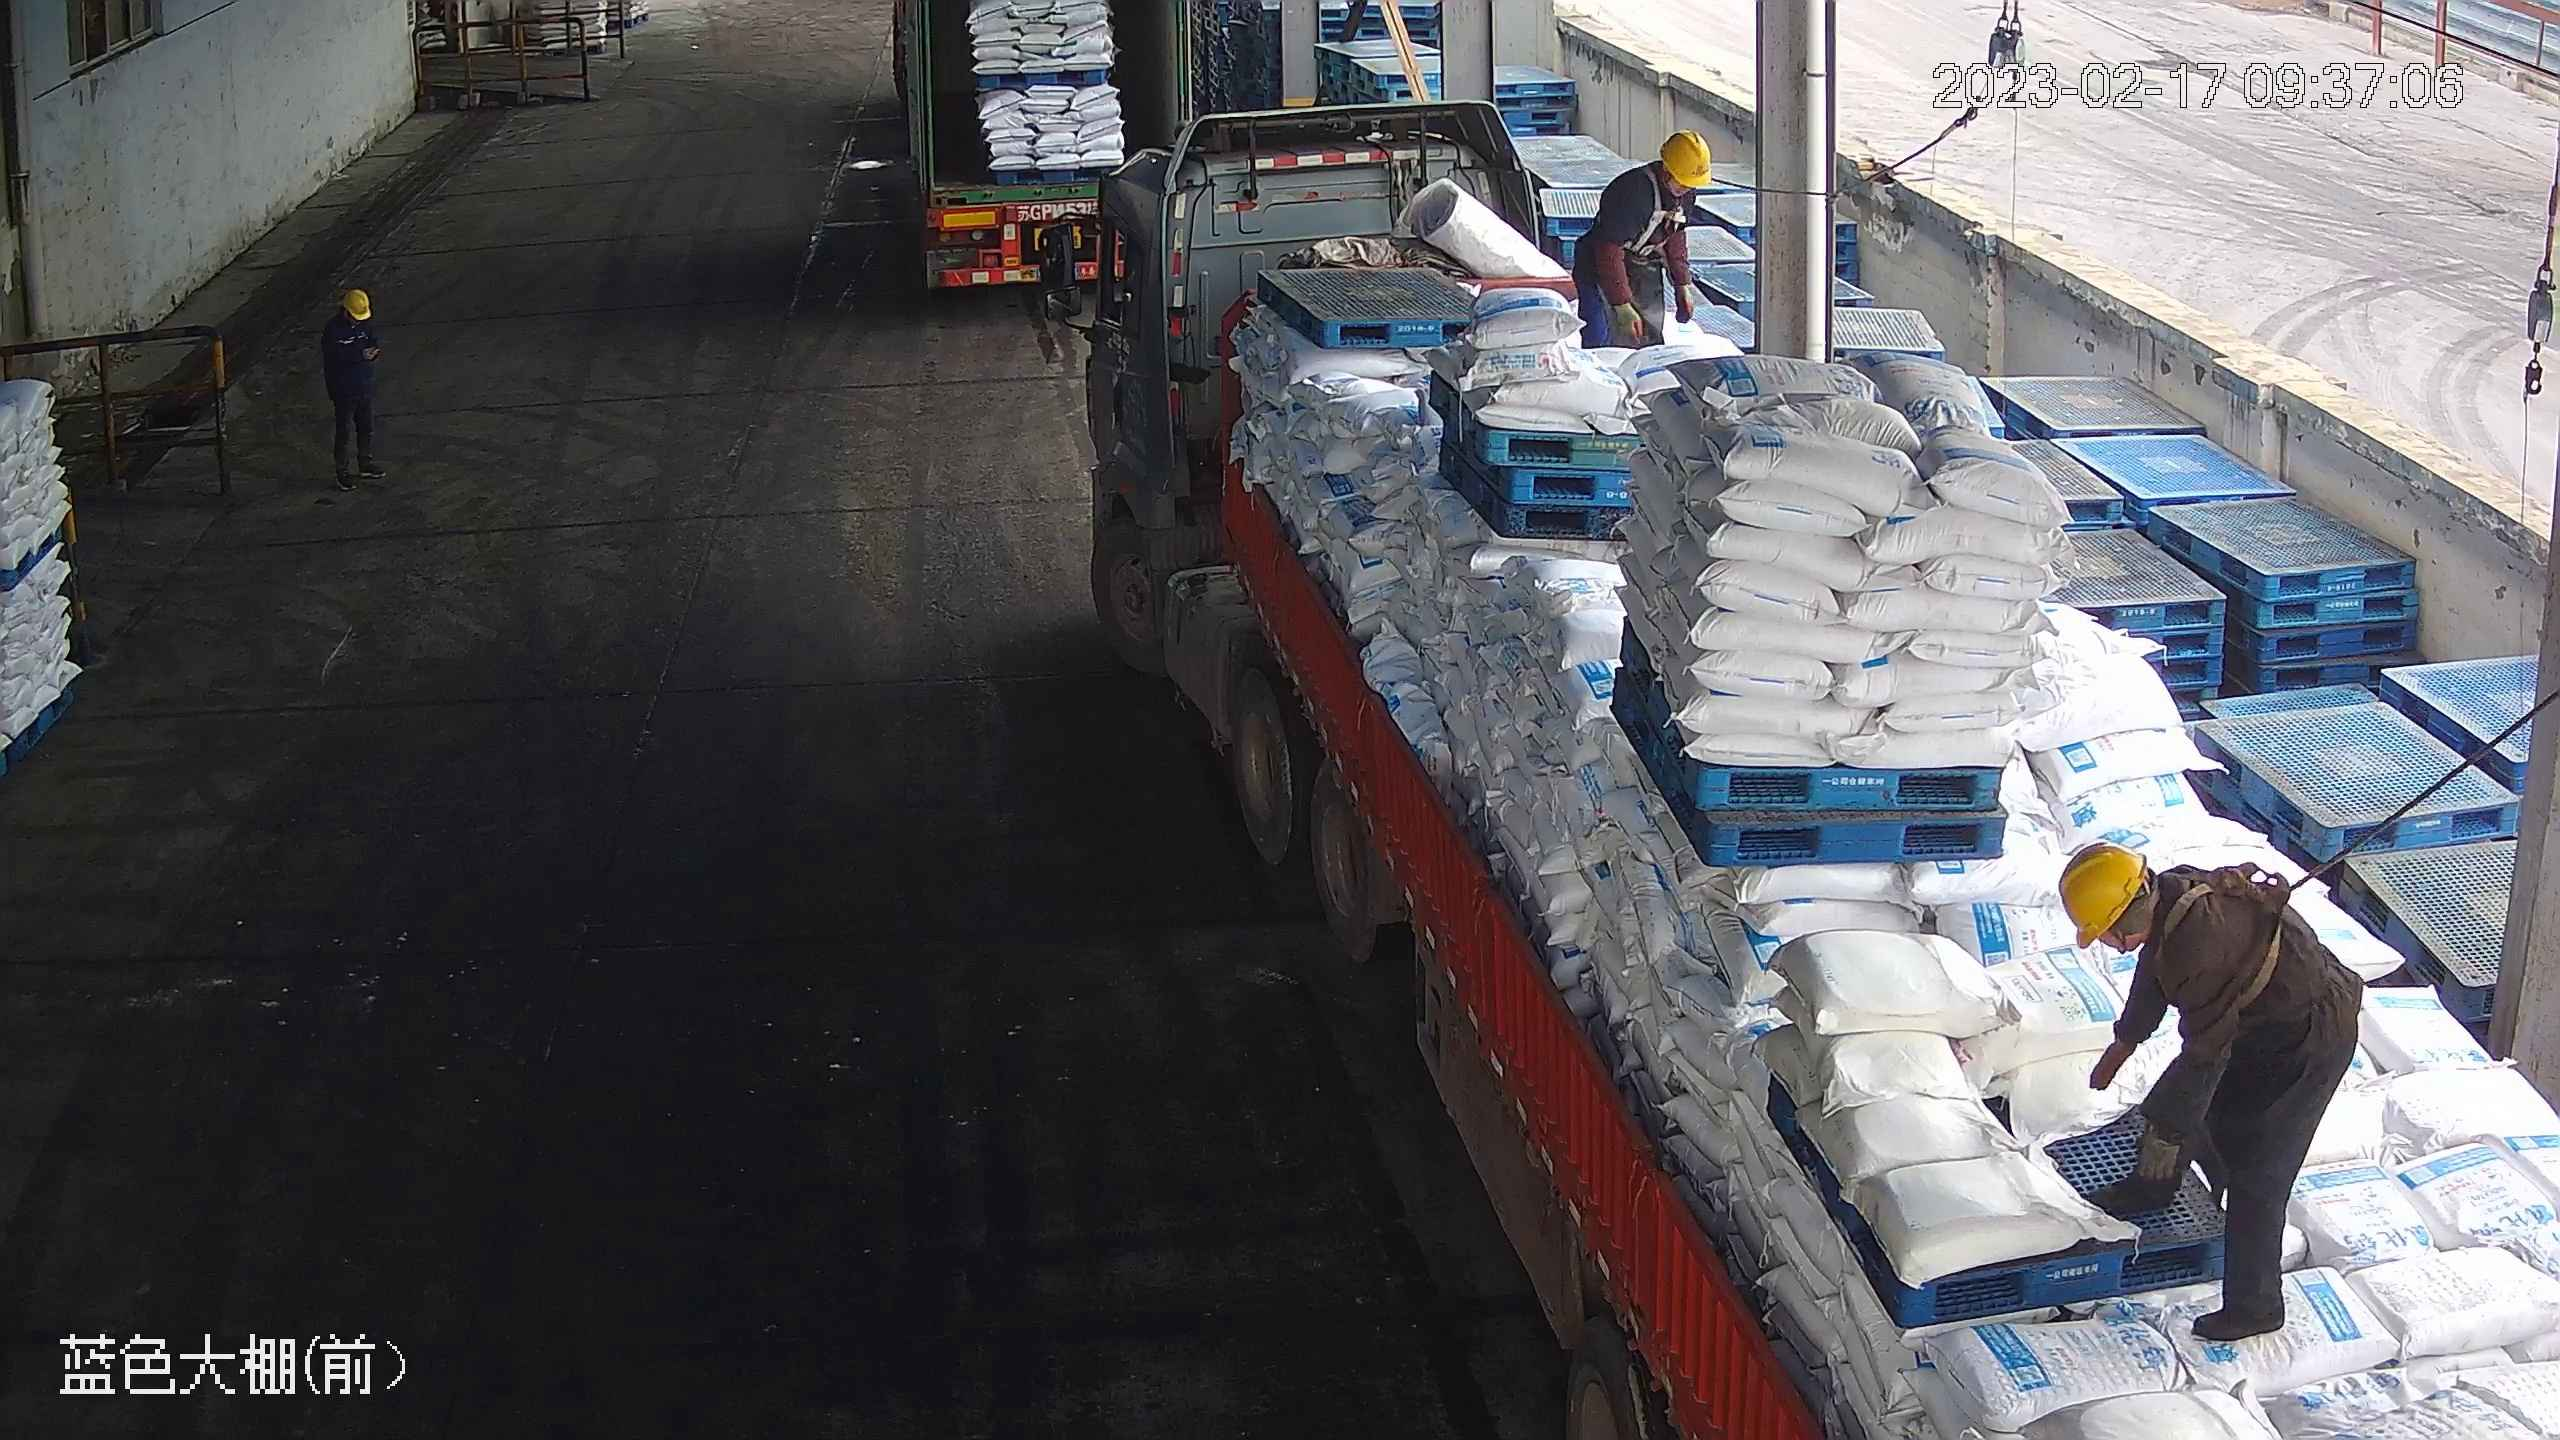belt: (2158, 857, 2304, 1009), (1622, 168, 1693, 253)
head: (2056, 839, 2256, 999), (1598, 125, 1710, 233), (321, 287, 377, 350)
helmet: (2056, 840, 2148, 951), (1657, 125, 1715, 188), (340, 286, 370, 315)
people: (2051, 839, 2364, 1346), (1569, 123, 1713, 357), (319, 287, 388, 492)
truck: (1037, 100, 2553, 1437), (890, 1, 1194, 294)
